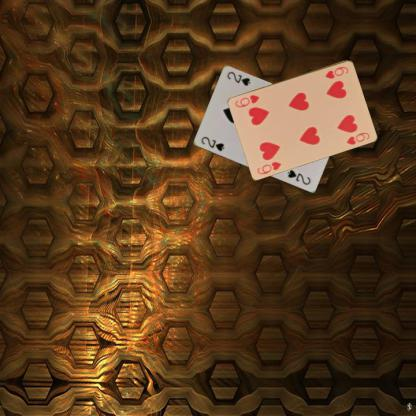2s: (198, 134, 226, 153)
6h: (322, 64, 350, 80), (255, 159, 282, 175)
